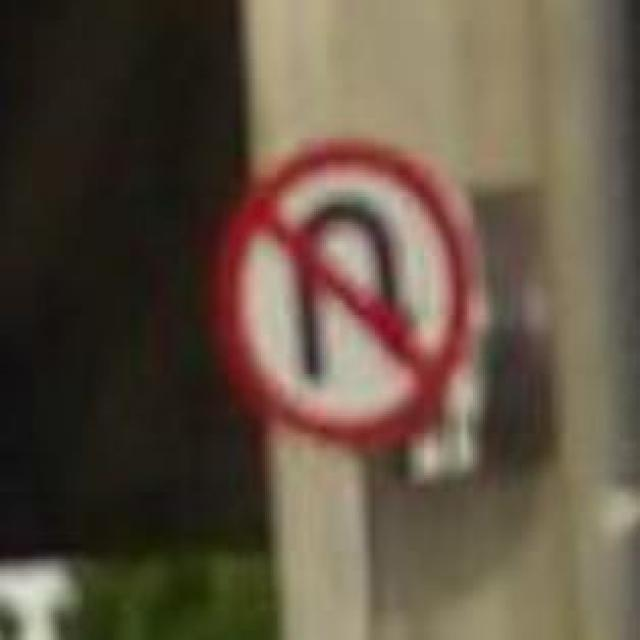traffic sign: (226, 143, 476, 456)
